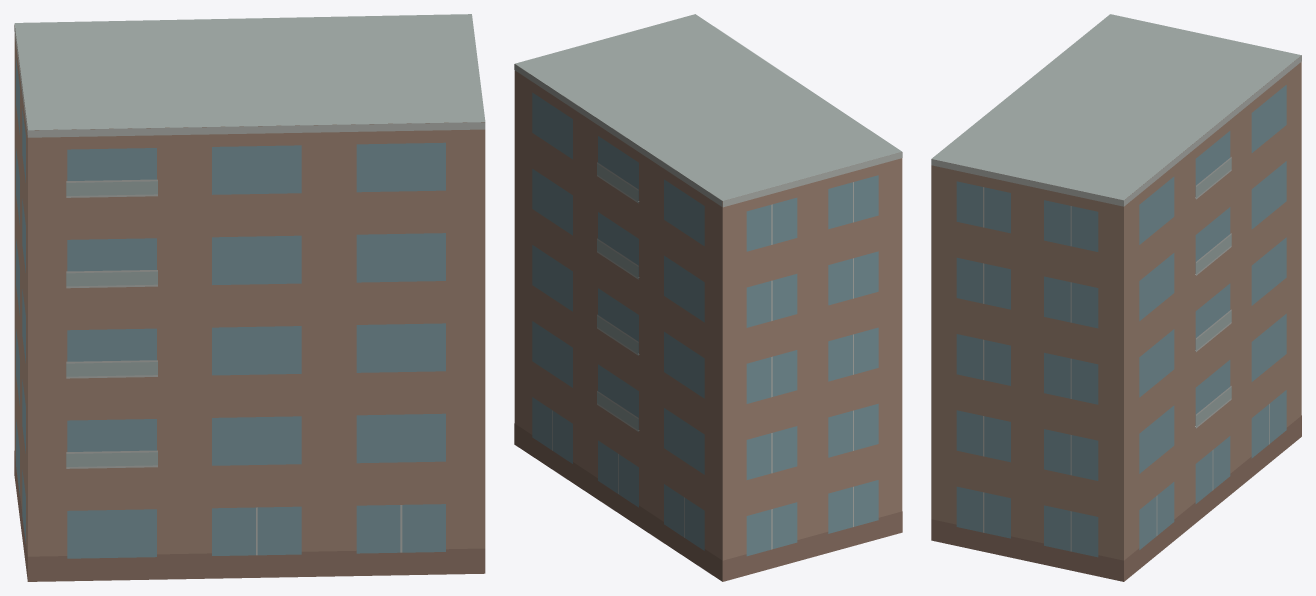
The model's file is survey-upis-32686173.glb.
3 views of the same model, side by side, from view 1: azimuth 30°, elevation 25°; view 2: azimuth 150°, elevation 25°; view 3: azimuth 270°, elevation 25° (orthographic). The views are drawn at different scales.
Parts seen in each view (by area): view 1: survey-upis-32686173.tmp; view 2: survey-upis-32686173.tmp; view 3: survey-upis-32686173.tmp.
Part boxes in pixels (<box>): survey-upis-32686173.tmp: <box>14,14,485,581</box>; survey-upis-32686173.tmp: <box>514,14,902,581</box>; survey-upis-32686173.tmp: <box>931,14,1301,581</box>.
Bounding box in the file's own units: 15.4 × 14.69 × 12.94.
